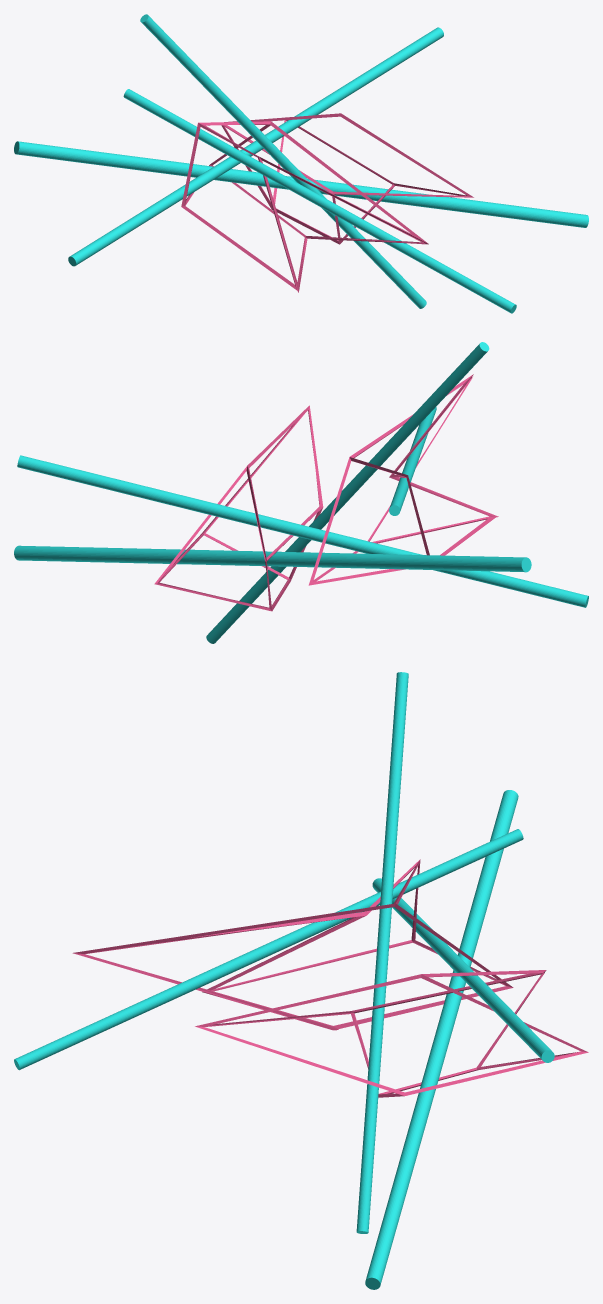
Rendered from impossible_cubes.gltf.
3 renders of one model, top to bottom at view 1: azimuth 30°, elevation 25°; view 2: azimuth 150°, elevation 25°; view 3: azimuth 270°, elevation 25°, orthographic. The views are drawn at different scales.
Parts seen in each view (by area): view 1: Cylinder.001, Cylinder, Cylinder.002, Cube.001, Cylinder.003, Cube; view 2: Cylinder.001, Cylinder, Cylinder.003, Cube.001, Cube, Cylinder.002; view 3: Cylinder.001, Cylinder.003, Cylinder.002, Cube.001, Cube, Cylinder.
Boxes of the visible parts, box(x1,y1,x2,y2) form: Cylinder.001: box(14, 141, 588, 227); Cylinder: box(68, 27, 443, 266); Cylinder.002: box(123, 89, 516, 313); Cube.001: box(181, 121, 428, 292); Cylinder.003: box(140, 14, 426, 308); Cube: box(221, 113, 473, 244); Cylinder.001: box(14, 545, 531, 572); Cylinder: box(17, 455, 588, 607); Cylinder.003: box(206, 342, 489, 643); Cube.001: box(308, 374, 498, 585); Cube: box(154, 405, 323, 611); Cylinder.002: box(389, 407, 436, 515); Cylinder.001: box(365, 790, 518, 1289); Cylinder.003: box(356, 672, 408, 1233); Cylinder.002: box(14, 829, 523, 1070); Cube.001: box(72, 859, 513, 1030); Cube: box(195, 970, 588, 1097); Cylinder: box(372, 878, 554, 1062).
Size of the model in its own units: 13.49 by 8.59 by 10.85.
